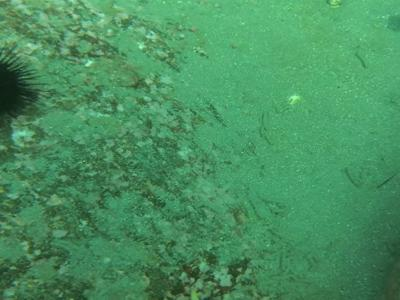urchin: (3, 42, 44, 129)
